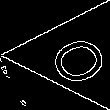O_NE: (35, 24, 110, 86)
